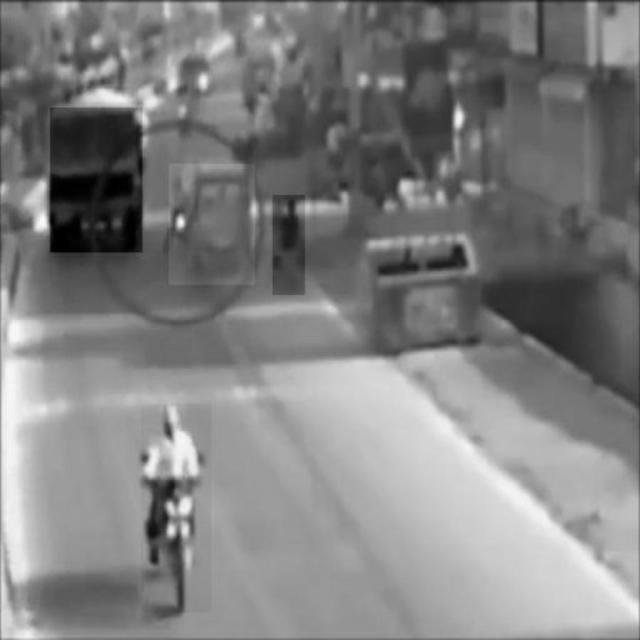accident: (169, 164, 255, 285)
person: (273, 196, 305, 296)
vehicle: (142, 404, 212, 612), (50, 107, 142, 253)
